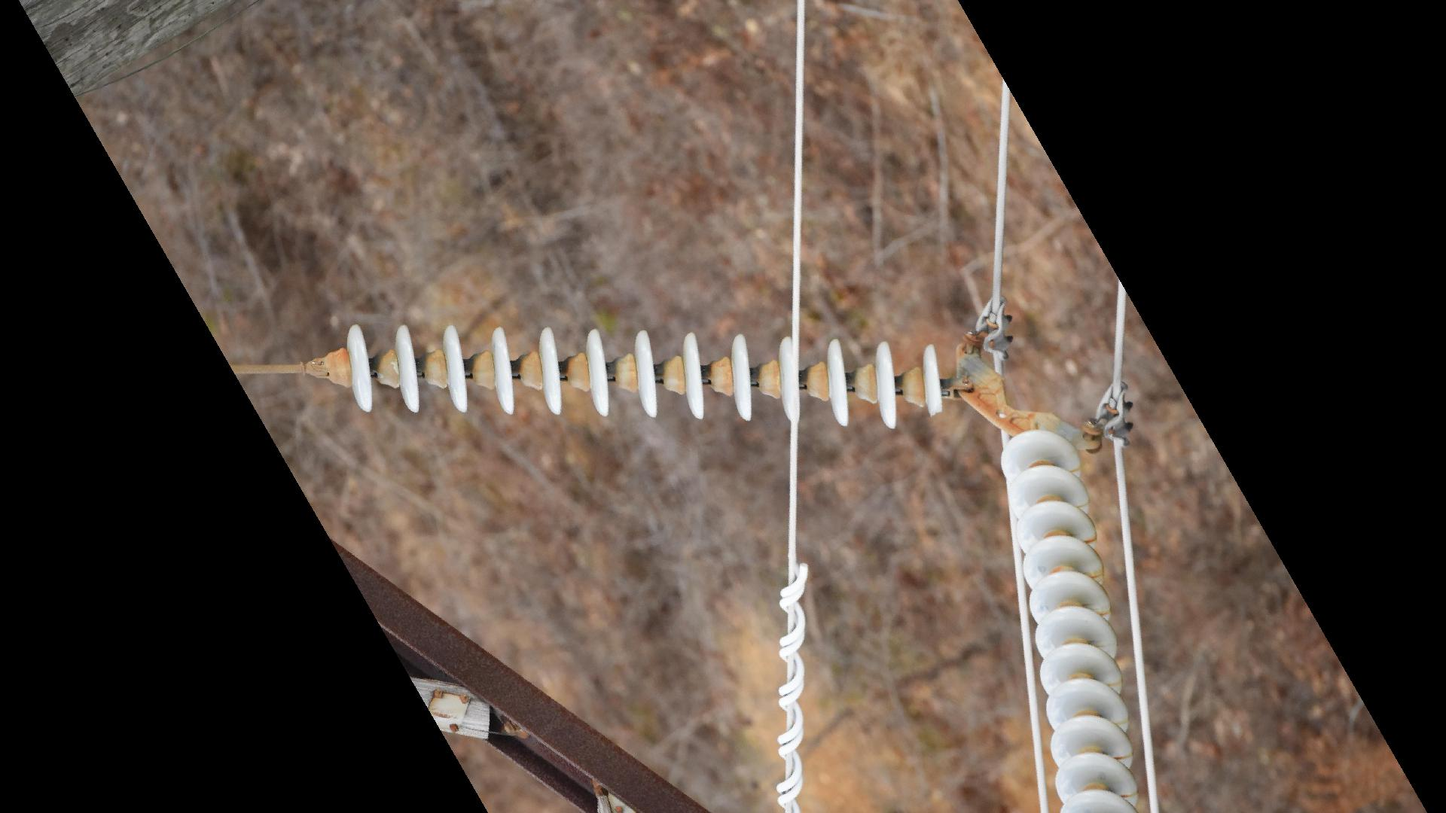insulator: (339, 316, 956, 437), (996, 423, 1152, 813)
insulator_breakage: (920, 383, 954, 423)
